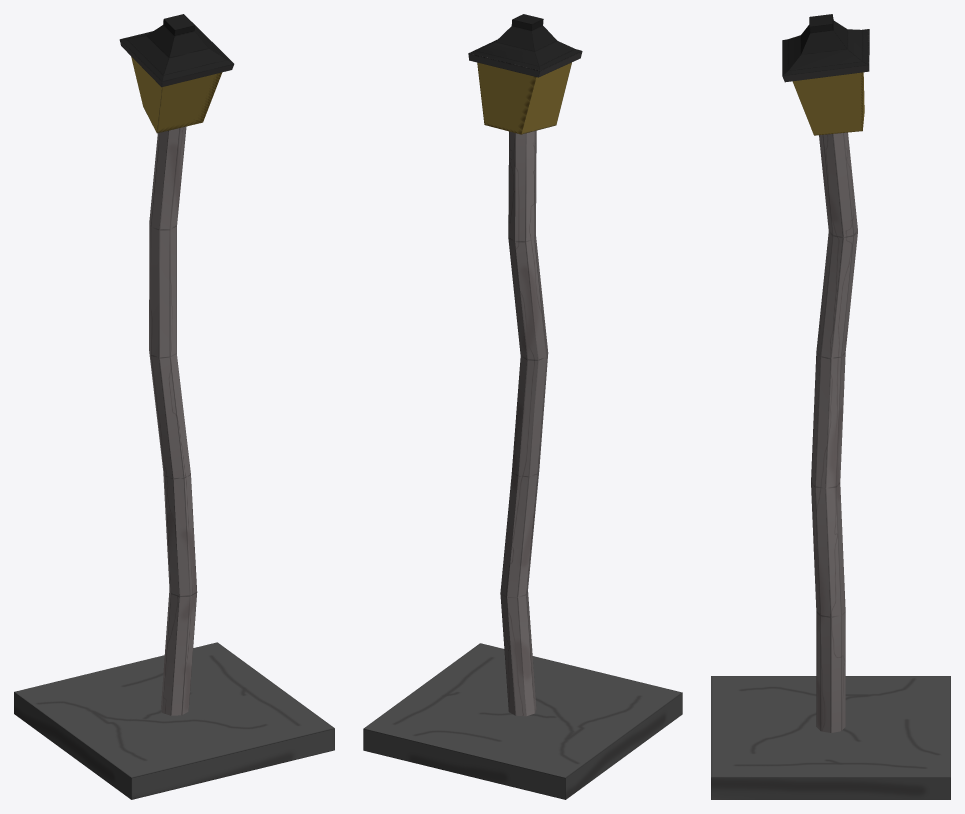
The model's file is Farol.fbx.
3 views of the same model, side by side, from view 1: azimuth 30°, elevation 25°; view 2: azimuth 150°, elevation 25°; view 3: azimuth 270°, elevation 25° (orthographic). The views are drawn at different scales.
Parts seen in each view (by area): view 1: pCube3; view 2: pCube3; view 3: pCube3.
Part boxes in pixels (box(x1,y1,x2,y2)): pCube3: box(14, 14, 334, 799); pCube3: box(363, 14, 682, 799); pCube3: box(711, 14, 950, 799).
Bounding box in the file's own units: 2.01 × 6.74 × 2.01.
Materials: 1 (1 with a texture image).
